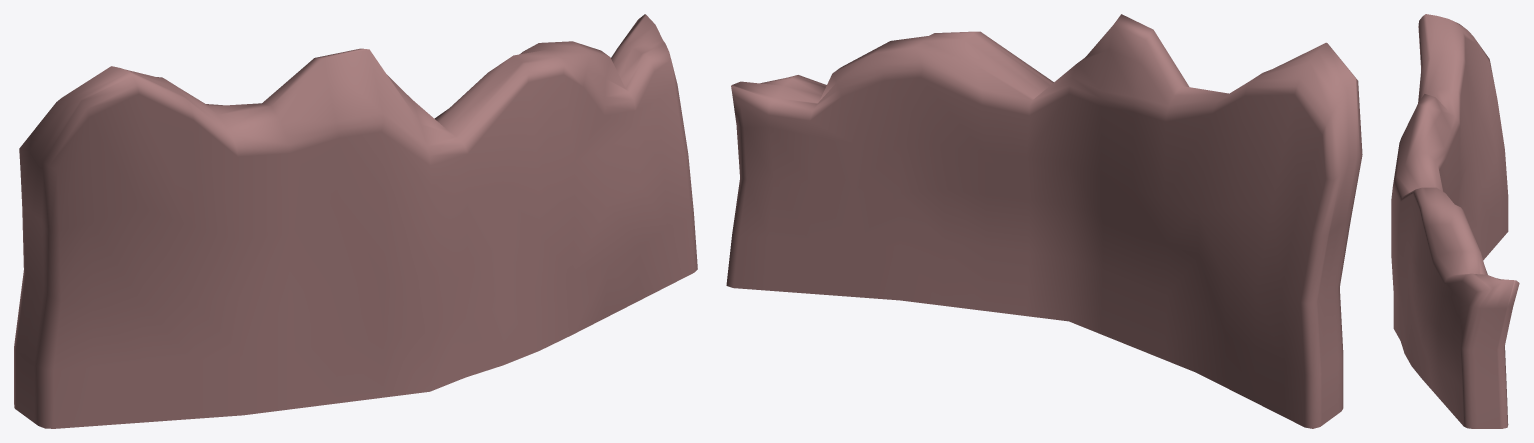
Rendered from LP_NuevoEscudo.fbx.
The picture shows the model from 3 angles, left to right: view 1: azimuth 30°, elevation 25°; view 2: azimuth 150°, elevation 25°; view 3: azimuth 270°, elevation 25°; orthographic projection. The views are drawn at different scales.
Visible parts, largest first — view 1: LP_NuevoEscudo; view 2: LP_NuevoEscudo; view 3: LP_NuevoEscudo.
Boxes of the visible parts, bbox=[...] form: LP_NuevoEscudo: bbox=[14, 14, 697, 428]; LP_NuevoEscudo: bbox=[726, 14, 1362, 428]; LP_NuevoEscudo: bbox=[1391, 14, 1519, 428].
Size of the model in its own units: 2.98 by 1.57 by 0.7926.
